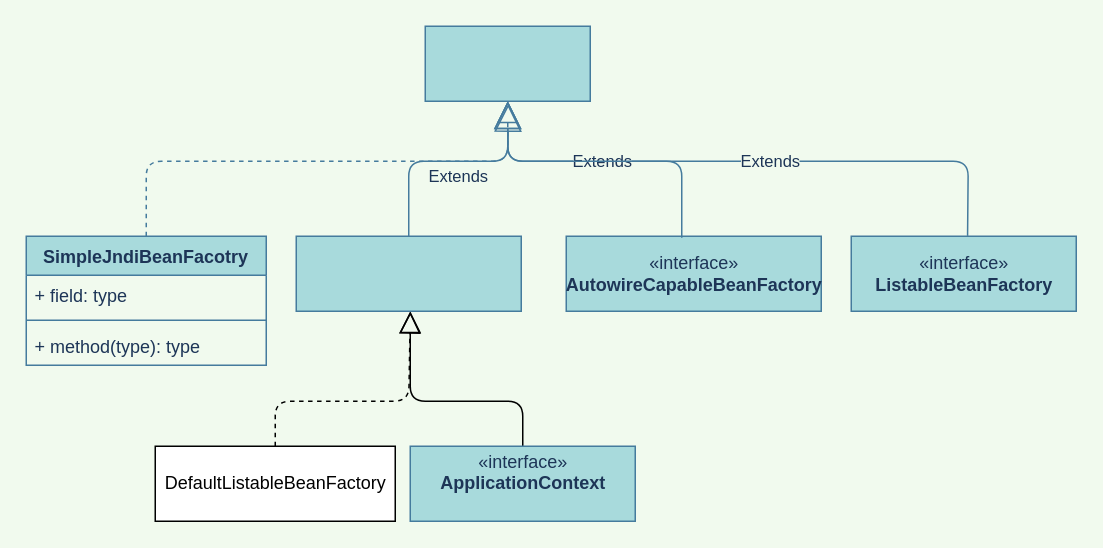
This 1103x548 diagram has some shape labels left out. The centre of each missing label's shape, as x and y in pixels:
«interface» BeanFactory: point 507,63
«interface» HierarchicalBeanFactory: point 408,273
